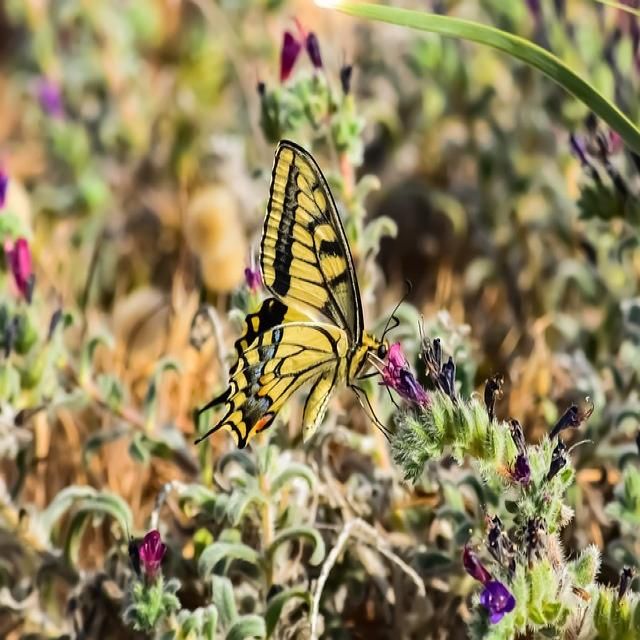butterfly: (242, 142, 372, 438)
